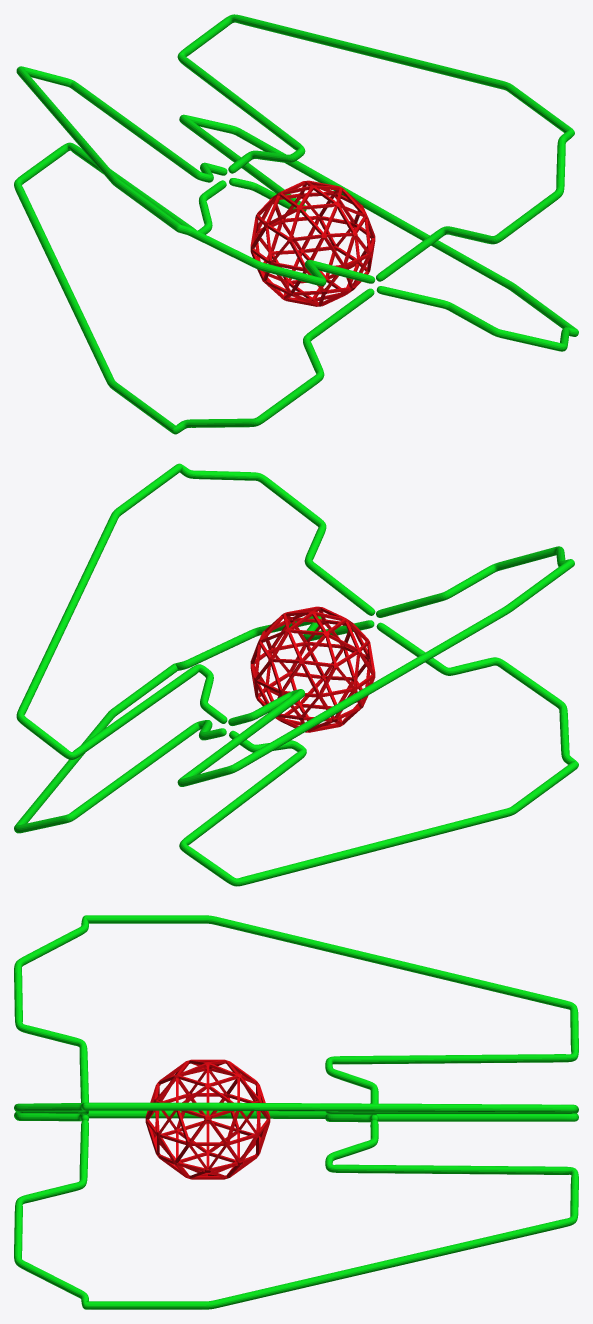
Rendered from Ship_01.fbx.
3 views of the same model, one above another, from view 1: azimuth 30°, elevation 25°; view 2: azimuth 150°, elevation 25°; view 3: azimuth 270°, elevation 25° (orthographic). The views are drawn at different scales.
Parts seen in each view (by area): view 1: Cube, Icosphere; view 2: Cube, Icosphere; view 3: Cube, Icosphere.
Boxes of the visible parts, <box> form: Cube: <box>14,14,578,434</box>; Icosphere: <box>250,180,375,306</box>; Cube: <box>14,463,578,886</box>; Icosphere: <box>250,606,375,732</box>; Cube: <box>14,915,578,1309</box>; Icosphere: <box>145,1059,270,1179</box>.
Bounding box in the file's own units: 37.58 × 18.4 × 46.11.
